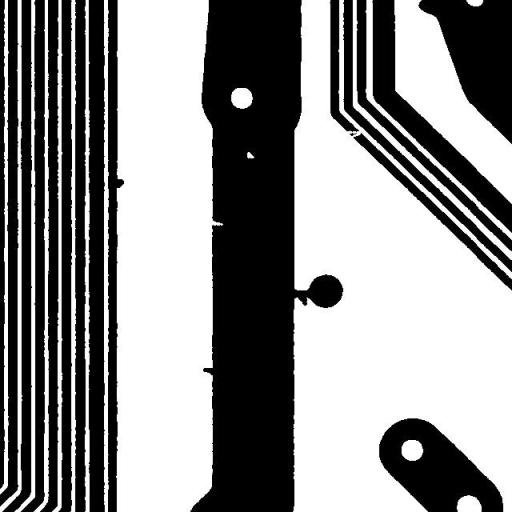mousebite: (197, 213, 230, 233)
open: (338, 122, 370, 145)
pin-hole: (239, 144, 262, 166)
spur: (195, 360, 226, 382), (106, 171, 132, 195), (290, 286, 314, 312)
